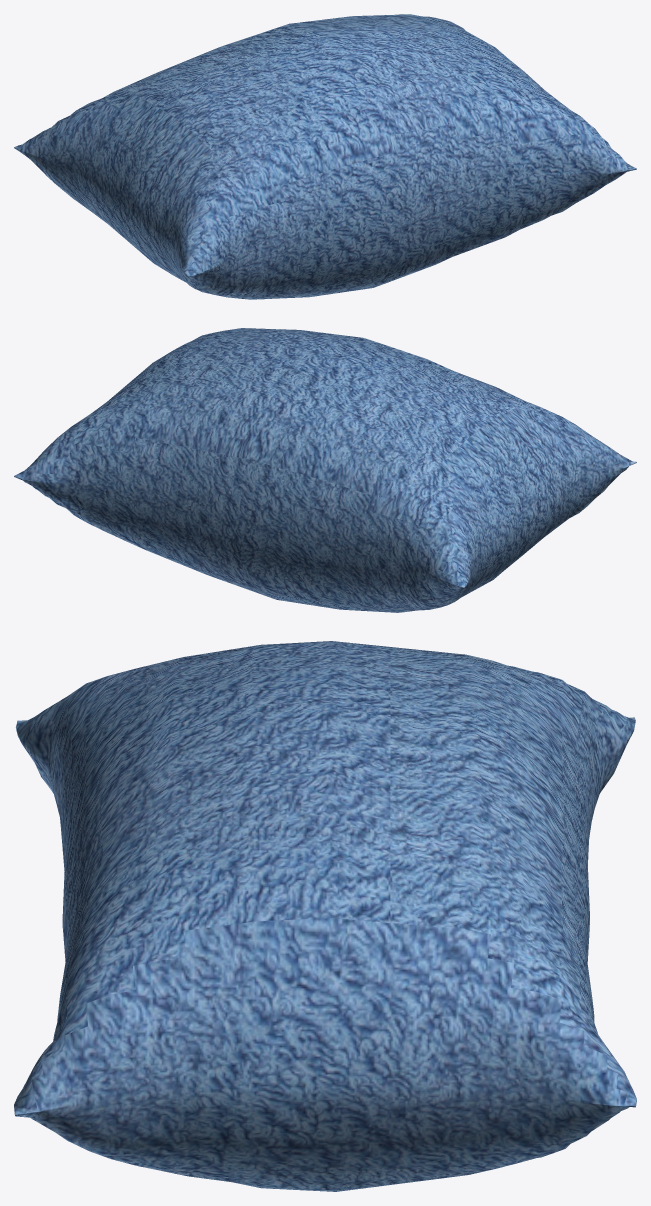
File: YGB0110046.fbx
The picture shows the model from 3 angles, top to bottom: view 1: azimuth 30°, elevation 25°; view 2: azimuth 150°, elevation 25°; view 3: azimuth 270°, elevation 25°; orthographic projection. The views are drawn at different scales.
Visible parts, largest first — view 1: smYGB0110046; view 2: smYGB0110046; view 3: smYGB0110046.
Part boxes in pixels (left/top/right/bottom): smYGB0110046: left=14, top=14, right=636, bottom=299; smYGB0110046: left=14, top=328, right=636, bottom=612; smYGB0110046: left=14, top=641, right=636, bottom=1191.
Bounding box in the file's own units: 152 × 75.72 × 102.
1 material, 1 textured.
